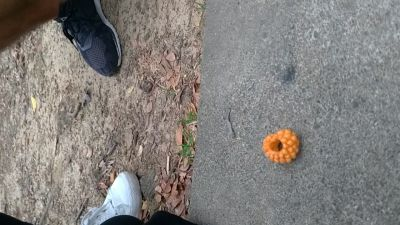eggs: (262, 128, 300, 163)
